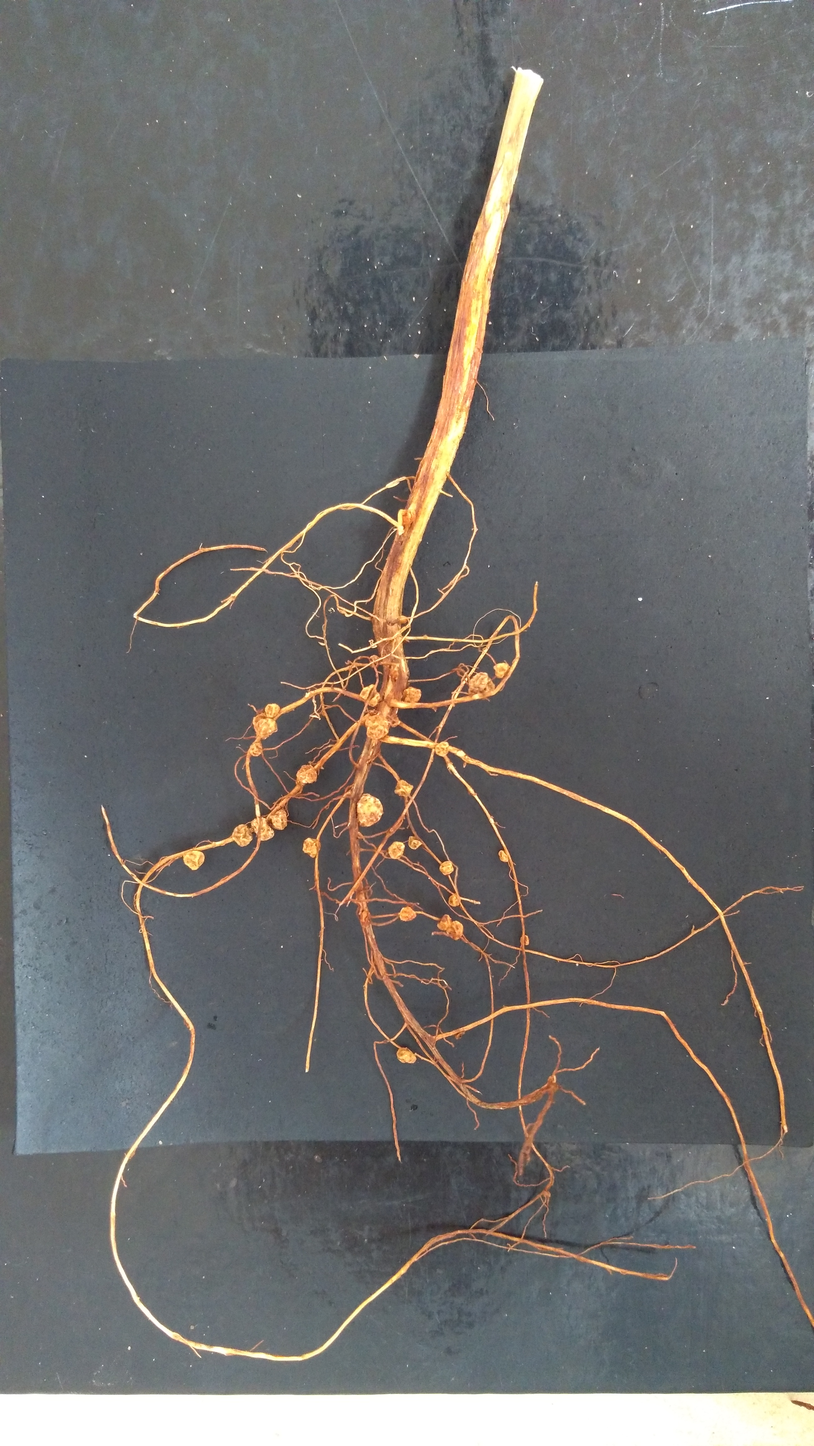nodule: (355, 789, 385, 828), (252, 711, 278, 740), (363, 713, 390, 740), (467, 670, 495, 696), (248, 815, 275, 841), (230, 822, 255, 848), (359, 682, 382, 708), (181, 848, 205, 872), (267, 807, 289, 831), (294, 763, 319, 784), (443, 920, 465, 942), (301, 836, 322, 859), (400, 685, 424, 704), (393, 777, 414, 798), (395, 1046, 418, 1065), (434, 912, 453, 933), (387, 839, 405, 860), (492, 661, 511, 679), (398, 905, 417, 923), (400, 509, 417, 528), (434, 741, 451, 759), (263, 702, 281, 718), (248, 740, 264, 758), (407, 834, 423, 851), (438, 859, 454, 876), (368, 653, 381, 670), (447, 893, 462, 907), (497, 849, 509, 864), (454, 1029, 466, 1041), (519, 934, 530, 946), (399, 614, 408, 625)
